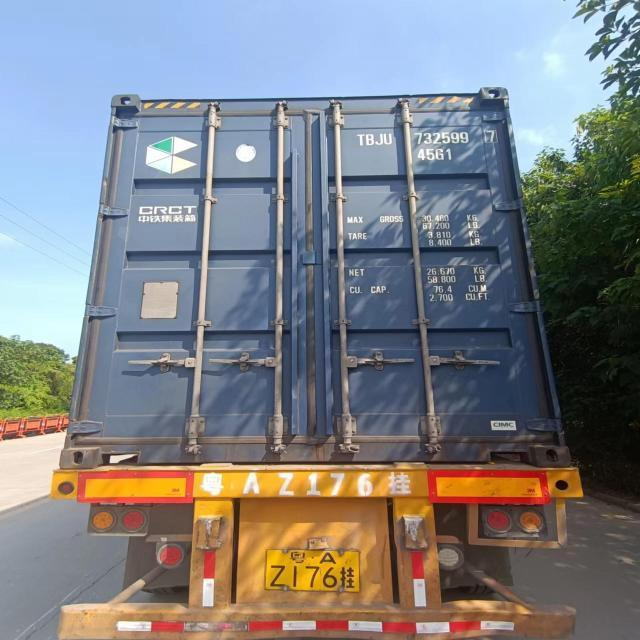ISO: (420, 149, 460, 165)
container_number: (351, 127, 504, 150)
